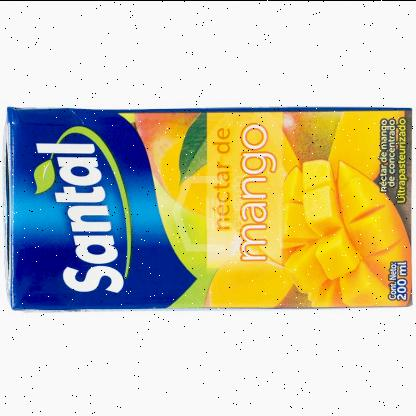Others: (2, 102, 416, 314)
